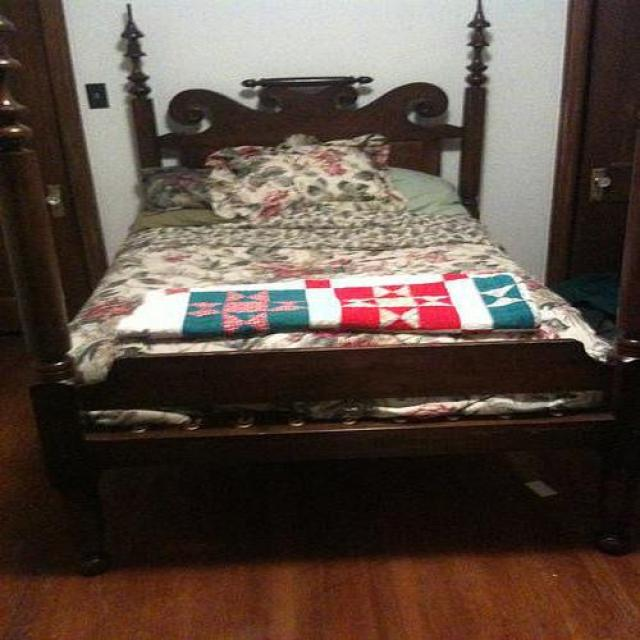bed: (0, 6, 640, 579)
